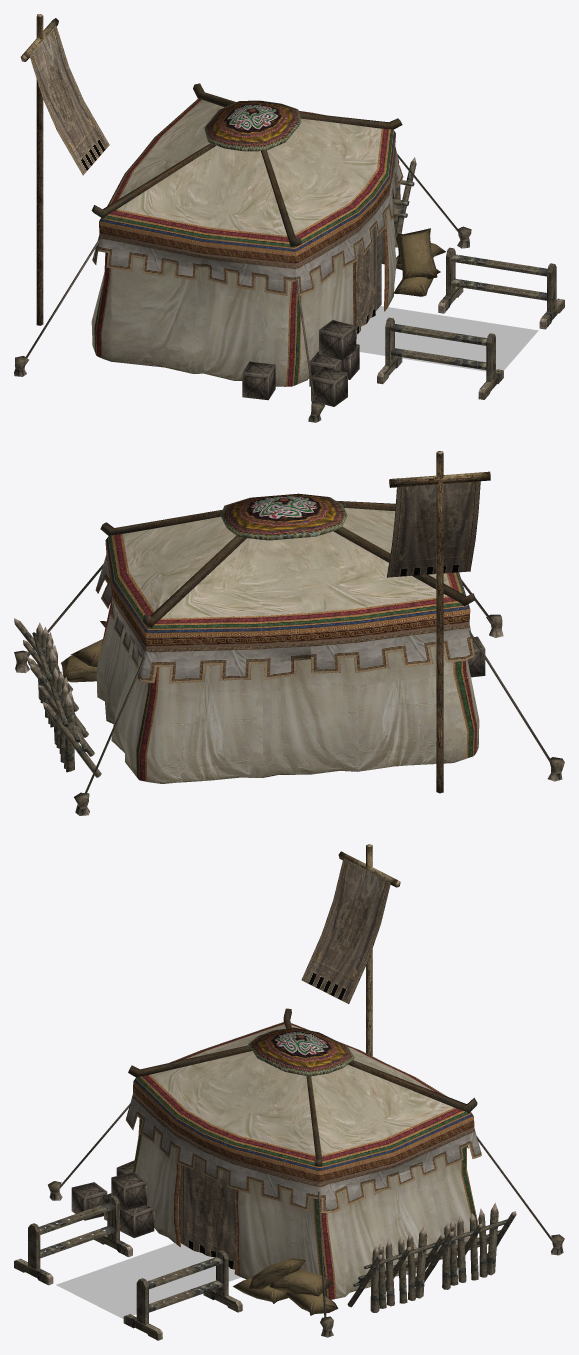
File: zhangpeng01.FBX
The picture shows the model from 3 angles, top to bottom: view 1: azimuth 30°, elevation 25°; view 2: azimuth 150°, elevation 25°; view 3: azimuth 270°, elevation 25°; orthographic projection. The views are drawn at different scales.
Parts seen in each view (by area): view 1: zhangpeng02, zhangpeng03, zhangpeng01, zhangpeng05, zhangpeng04, zhangpeng07, zhangpeng06; view 2: zhangpeng02, zhangpeng01, zhangpeng03, zhangpeng05, zhangpeng04, zhangpeng06; view 3: zhangpeng02, zhangpeng01, zhangpeng03, zhangpeng05, zhangpeng07, zhangpeng04, zhangpeng06.
Boxes of the visible parts, x1,y1,x2,y2 form: zhangpeng02: (91, 83, 402, 386); zhangpeng03: (118, 100, 381, 235); zhangpeng01: (29, 25, 403, 338); zhangpeng05: (14, 157, 564, 422); zhangpeng04: (20, 14, 461, 406); zhangpeng07: (356, 306, 538, 371); zhangpeng06: (393, 228, 445, 296); zhangpeng02: (96, 501, 479, 783); zhangpeng01: (95, 481, 480, 683); zhangpeng03: (123, 508, 449, 618); zhangpeng05: (14, 588, 564, 815); zhangpeng04: (27, 451, 549, 793); zhangpeng06: (61, 621, 106, 682); zhangpeng02: (128, 1008, 477, 1299); zhangpeng01: (126, 858, 481, 1269); zhangpeng03: (150, 1024, 453, 1155); zhangpeng05: (14, 1181, 564, 1340); zhangpeng07: (56, 1243, 240, 1318); zhangpeng04: (59, 844, 551, 1317); zhangpeng06: (233, 1258, 338, 1315).
Size of the model in its own units: 474 by 293 by 487.
